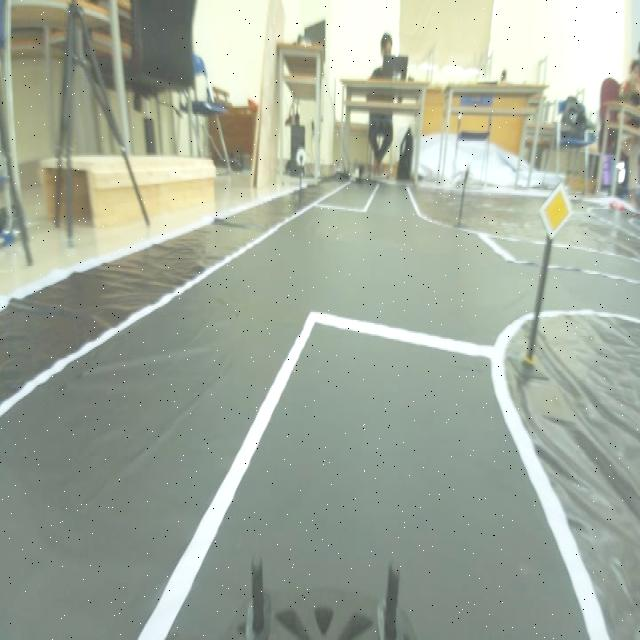priority: (535, 173, 573, 244)
